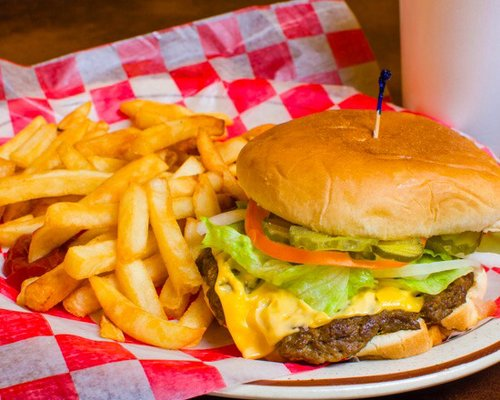soup: (201, 104, 500, 365)
